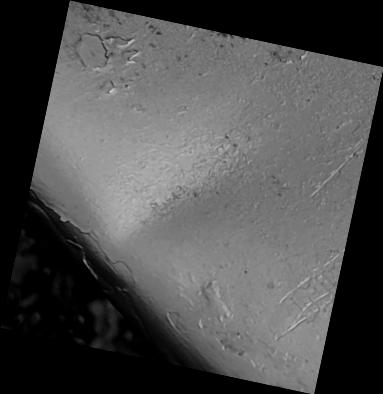dent: (1, 1, 383, 394)
